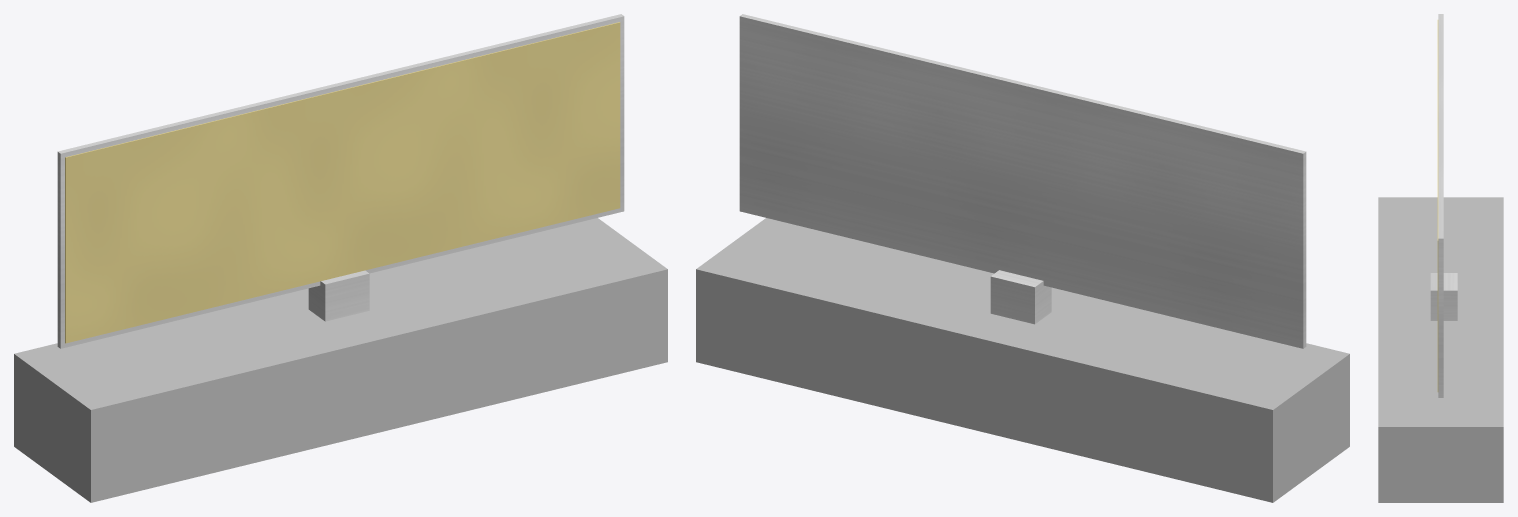
The model's file is tv_flat.obj.
3 renders of one model, left to right at view 1: azimuth 30°, elevation 25°; view 2: azimuth 150°, elevation 25°; view 3: azimuth 270°, elevation 25°, orthographic. The views are drawn at different scales.
Visible parts, largest first — view 1: tv_flat; view 2: tv_flat; view 3: tv_flat.
Boxes of the visible parts, x1=… form: tv_flat: x1=14, y1=14, x2=667, y2=502; tv_flat: x1=696, y1=14, x2=1349, y2=502; tv_flat: x1=1378, y1=14, x2=1503, y2=502.
Size of the model in its own units: 2.6 by 1.38 by 0.6.
